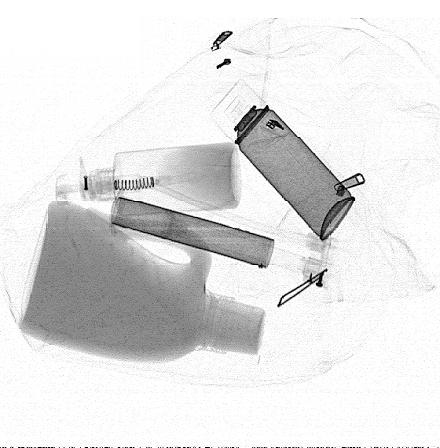Sprayer: (209, 78, 356, 242)
